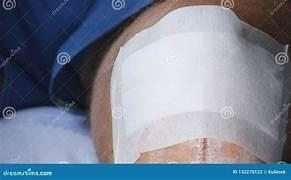Bandage: (111, 6, 288, 162), (0, 106, 97, 162)
